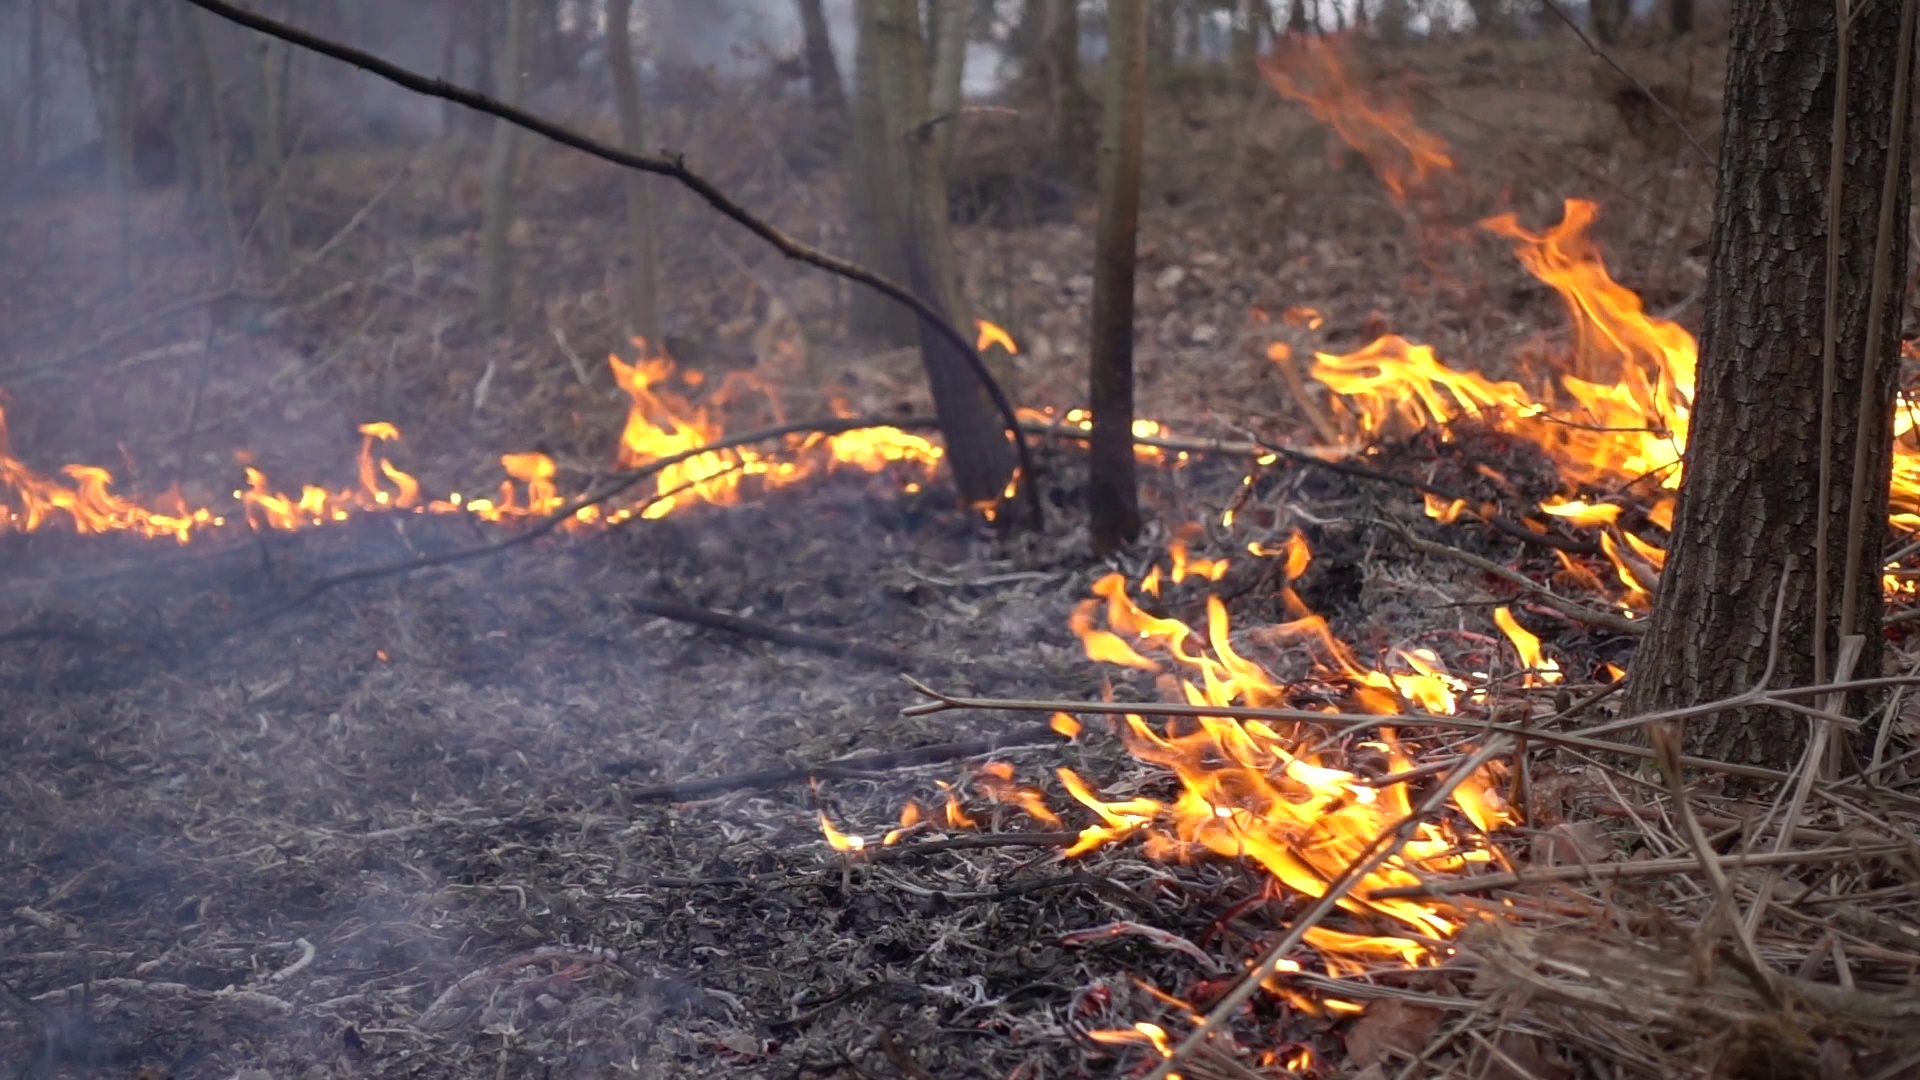fire: (1073, 582, 1539, 989), (1307, 198, 1692, 574), (612, 344, 942, 525), (233, 421, 423, 537), (1, 465, 196, 547), (491, 448, 555, 514), (1890, 398, 1916, 524), (1131, 413, 1158, 459)
